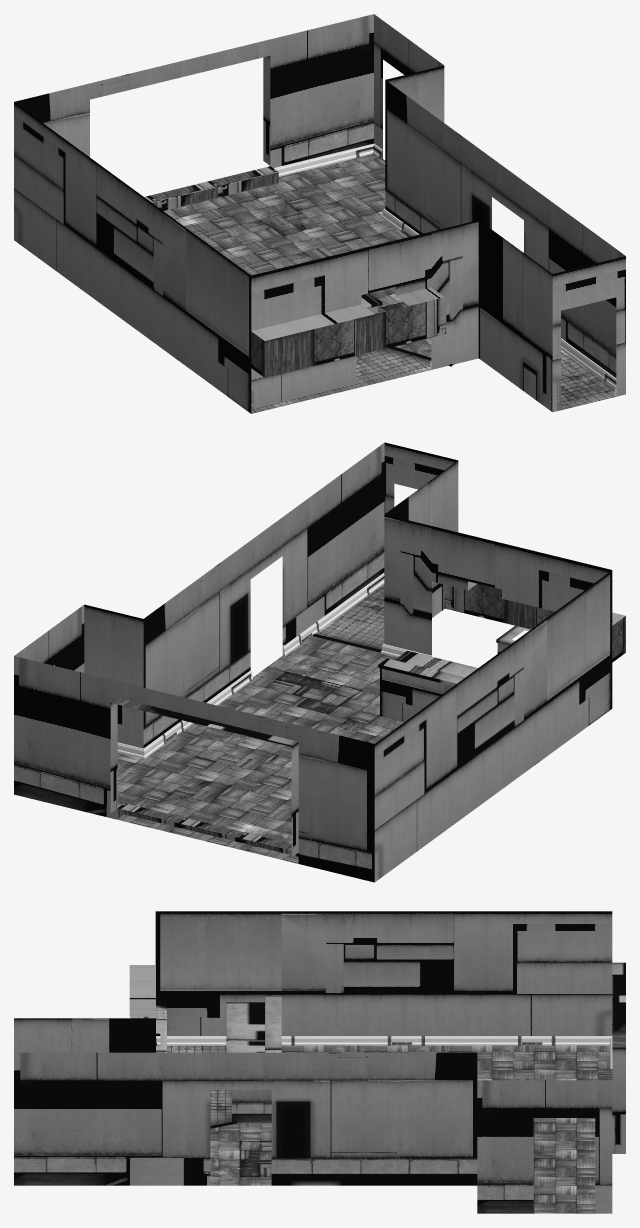
File: apartment.fbx
The picture shows the model from 3 angles, top to bottom: view 1: azimuth 30°, elevation 25°; view 2: azimuth 150°, elevation 25°; view 3: azimuth 270°, elevation 25°; orthographic projection. The views are drawn at different scales.
Parts seen in each view (by area): view 1: Object002, Plane011; view 2: Object002, Plane011; view 3: Object002, Plane011.
Part boxes in pixels (x1=…): Object002: x1=14, y1=14, x2=625, y2=413; Plane011: x1=163, y1=154, x2=616, y2=413; Object002: x1=14, y1=442, x2=625, y2=882; Plane011: x1=117, y1=584, x2=404, y2=863; Object002: x1=14, y1=911, x2=625, y2=1213; Plane011: x1=156, y1=1044, x2=609, y2=1213.
Bounding box in the file's own units: 923 × 339 × 1411.
